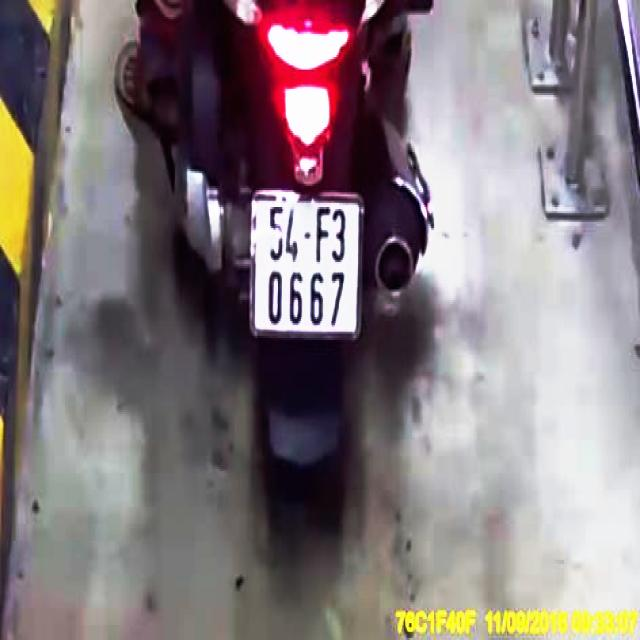license_plate: (254, 202, 362, 331)
